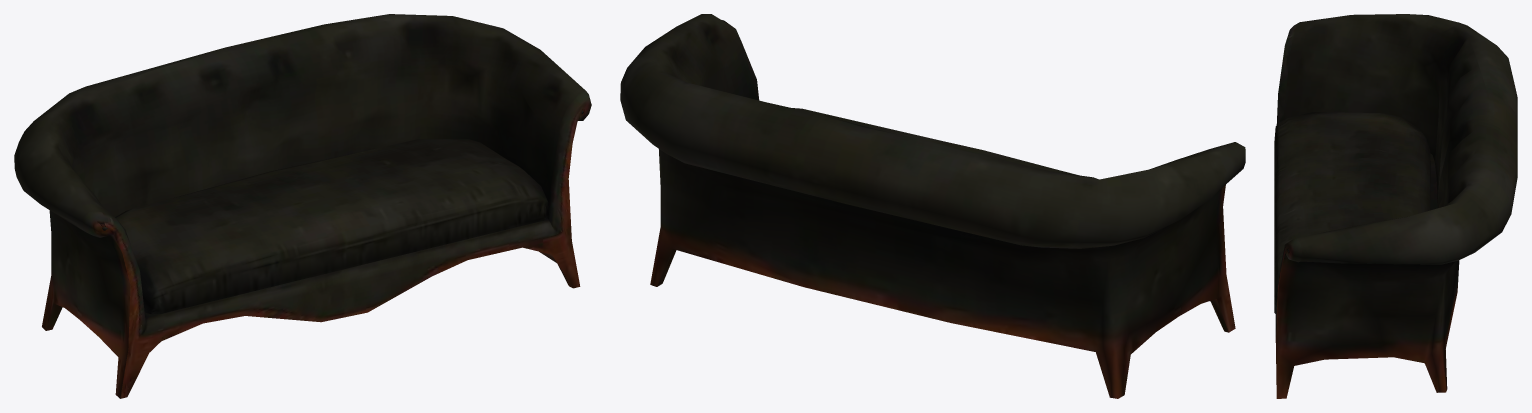
The model's file is sofa_02.fd821784.glb.
3 views of the same model, side by side, from view 1: azimuth 30°, elevation 25°; view 2: azimuth 150°, elevation 25°; view 3: azimuth 270°, elevation 25° (orthographic). The views are drawn at different scales.
Parts seen in each view (by area): view 1: sofa_02_Base, sofa_02_Seat; view 2: sofa_02_Base, sofa_02_Seat; view 3: sofa_02_Base, sofa_02_Seat.
Part boxes in pixels (box(x1,y1,x2,y2)): sofa_02_Base: box(14, 14, 591, 398); sofa_02_Seat: box(115, 139, 549, 314); sofa_02_Base: box(620, 14, 1245, 398); sofa_02_Seat: box(792, 108, 1078, 175); sofa_02_Base: box(1275, 14, 1517, 398); sofa_02_Seat: box(1274, 112, 1430, 313).
Size of the model in its own units: 1.81 by 0.7095 by 0.8121.
Materials: 1 (1 with a texture image).
